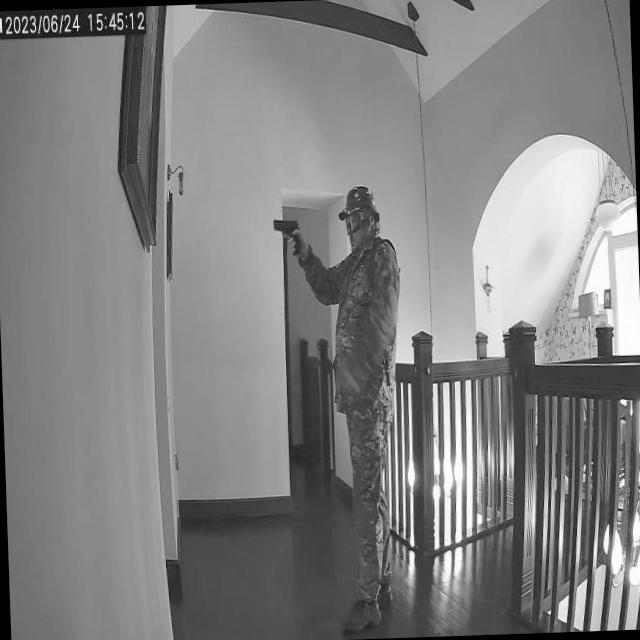gun: (271, 211, 302, 259)
person with a gun: (270, 183, 412, 638)
